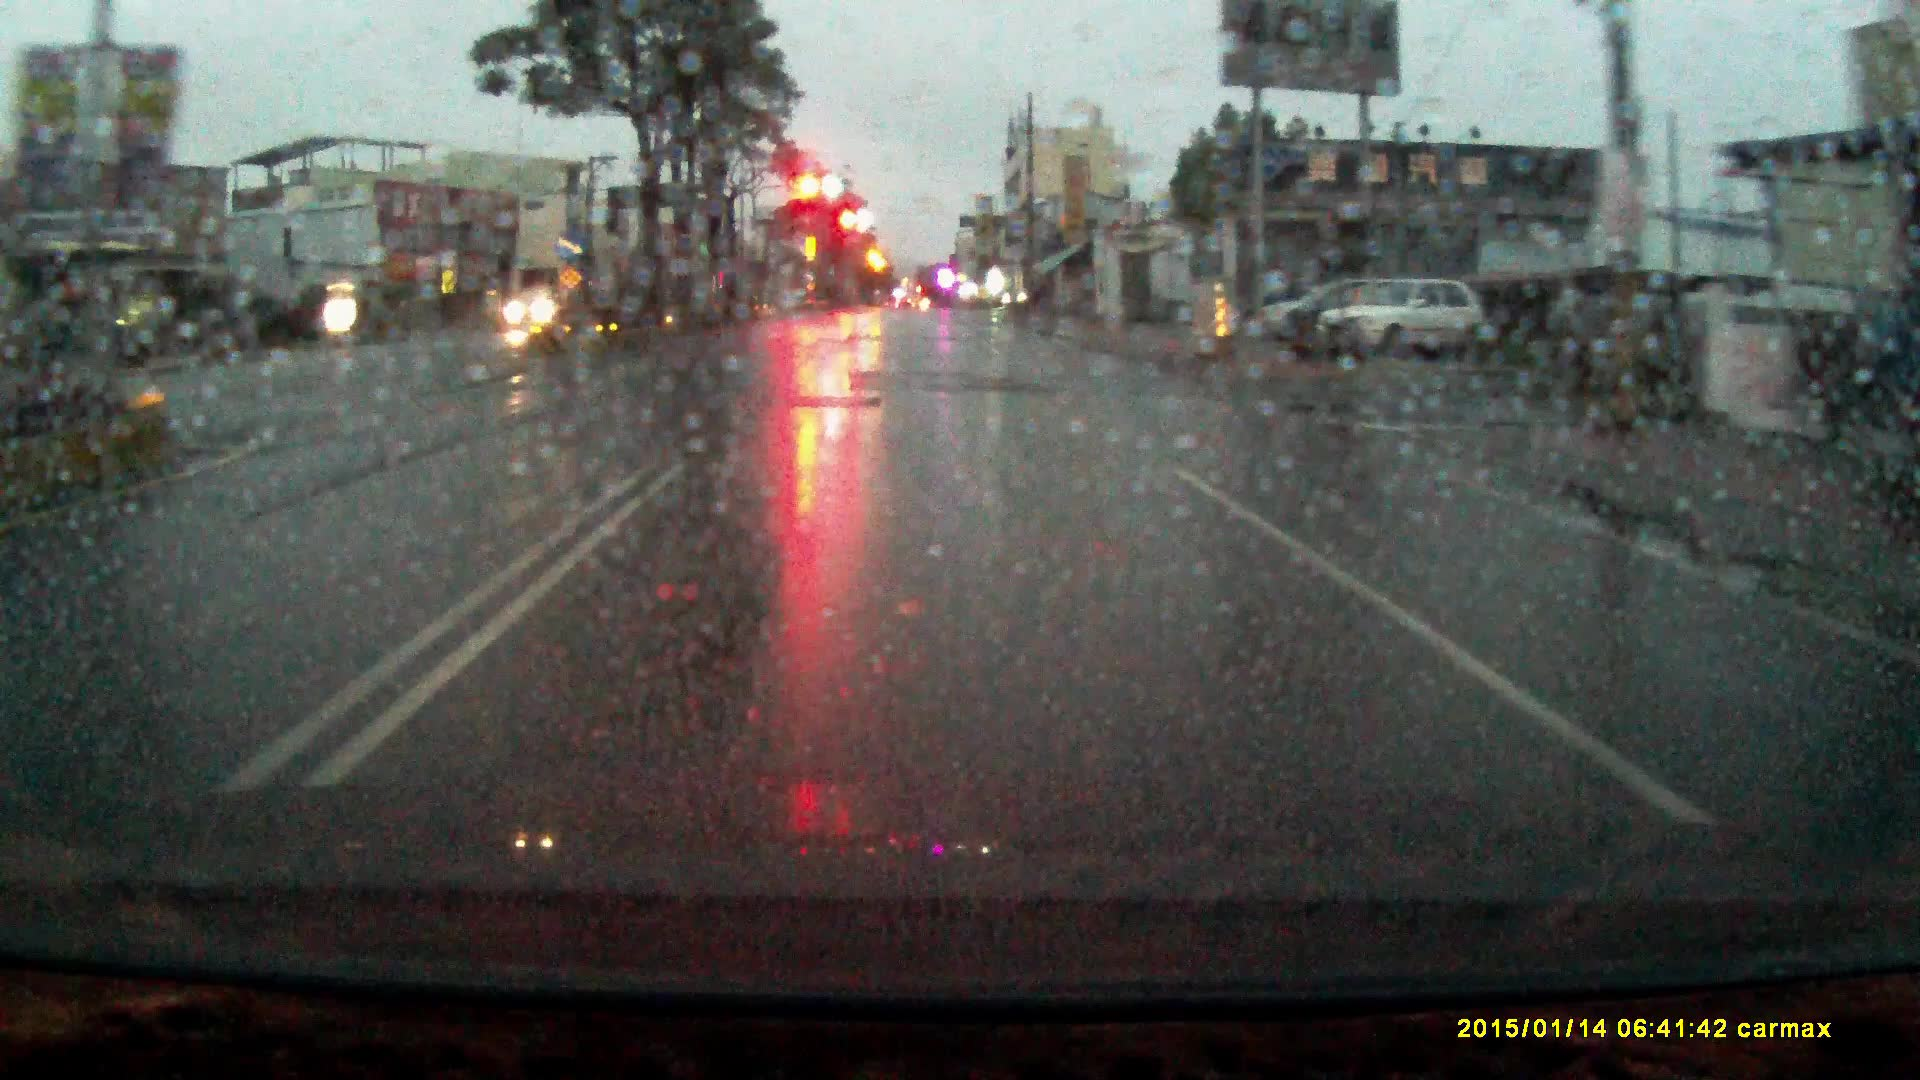vehicle: (1313, 284, 1490, 363), (1279, 280, 1419, 351), (1251, 282, 1362, 342), (505, 291, 582, 338), (1004, 284, 1054, 316)
